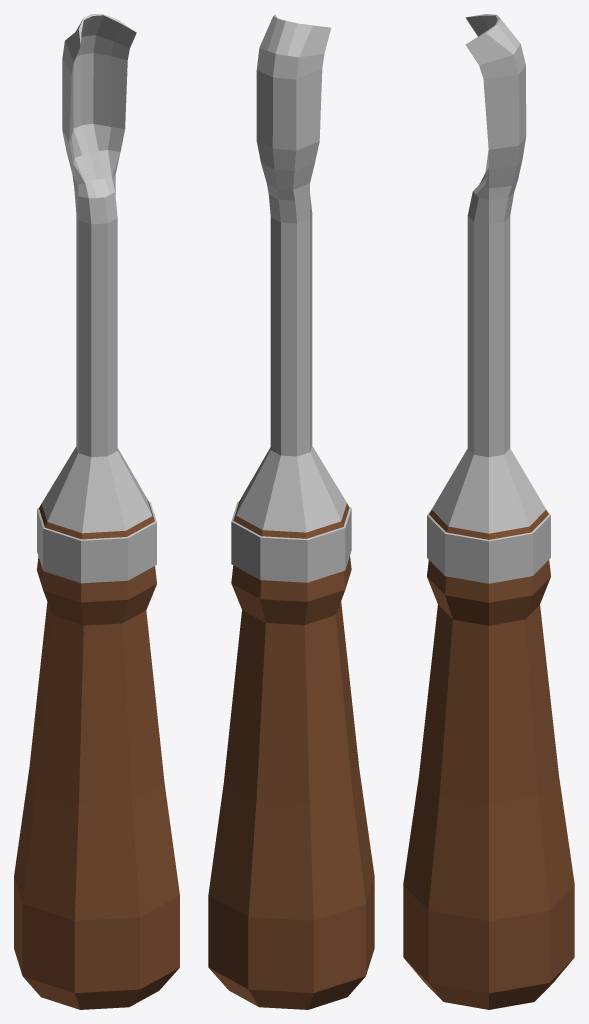
File: chisel03.gltf
3 views of the same model, side by side, from view 1: azimuth 30°, elevation 25°; view 2: azimuth 150°, elevation 25°; view 3: azimuth 270°, elevation 25° (orthographic).
Visible parts, largest first — view 1: Cylinder; view 2: Cylinder; view 3: Cylinder.
Part boxes in pixels (x1,y1,x2,y2): Cylinder: (14,14,179,1009); Cylinder: (208,14,374,1009); Cylinder: (403,14,574,1009).
Bounding box in the file's own units: 0.0276 × 0.1713 × 0.0276.
1 material, 1 textured.
